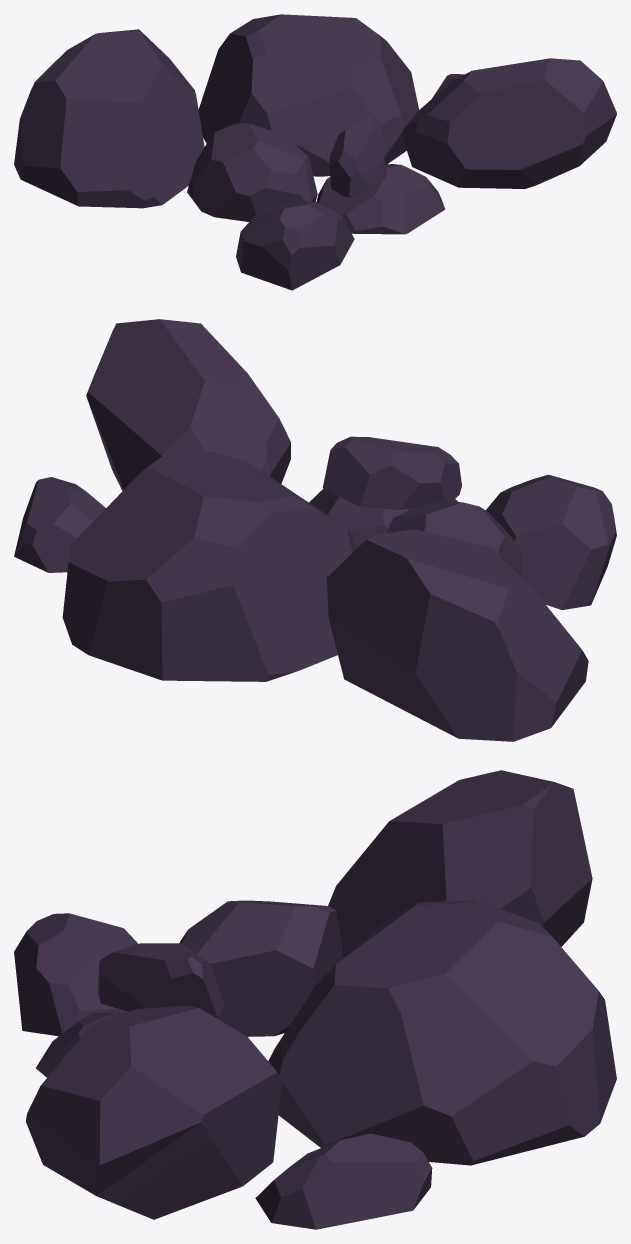
The model's file is aevarpack.fbx.
The picture shows the model from 3 angles, top to bottom: view 1: azimuth 30°, elevation 25°; view 2: azimuth 150°, elevation 25°; view 3: azimuth 270°, elevation 25°; orthographic projection. The views are drawn at different scales.
Visible parts, largest first — view 1: MotonAevar; view 2: MotonAevar; view 3: MotonAevar.
Part boxes in pixels (left/top/right/bottom): MotonAevar: left=14, top=14, right=616, bottom=290; MotonAevar: left=14, top=319, right=616, bottom=741; MotonAevar: left=14, top=770, right=616, bottom=1229.
Size of the model in its own units: 130 by 37.12 by 93.46.
